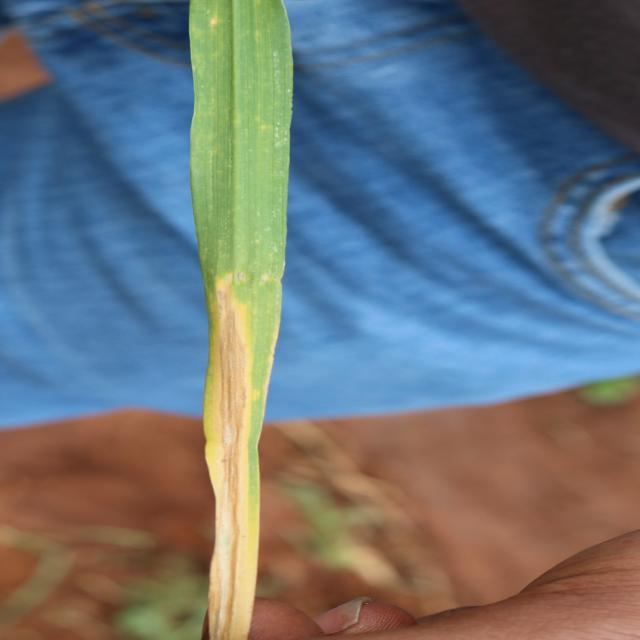Septoria: (187, 1, 295, 638)
